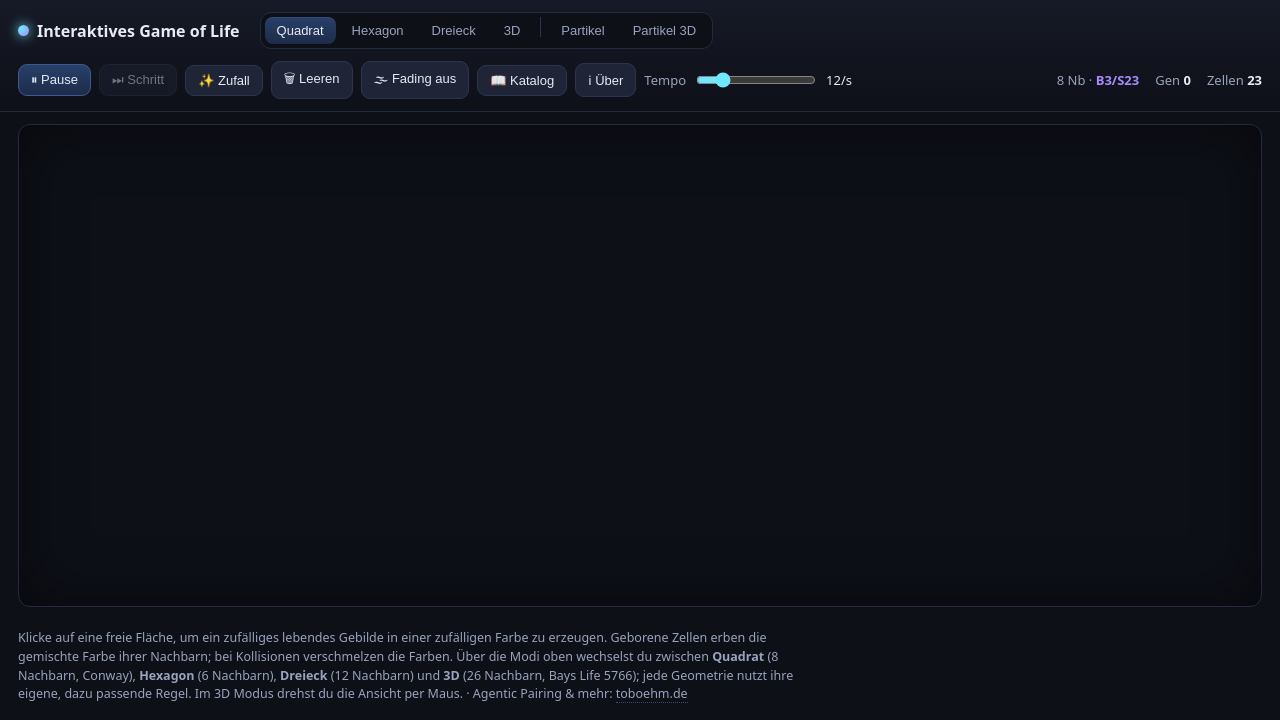
Test: App UI › shows the active rule and updates it when switching modes
Check: the text "B3/S23" is shown, box [1096,71,1139,89]
Click the button "Hexagon" at [378, 30], box [340,17,416,44]
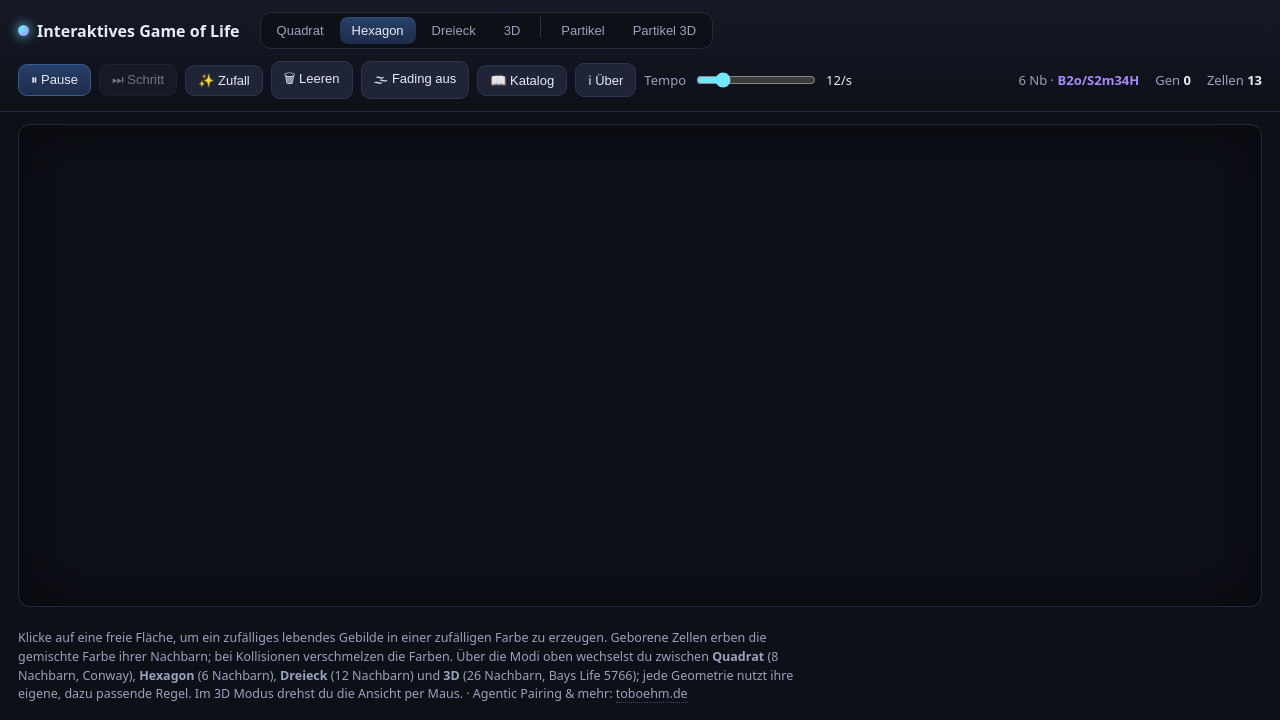
Check: the text "B2o/S2m34H" is shown, box [1058,71,1139,89]
Click the button "Dreieck" at [454, 30], box [420,17,488,44]
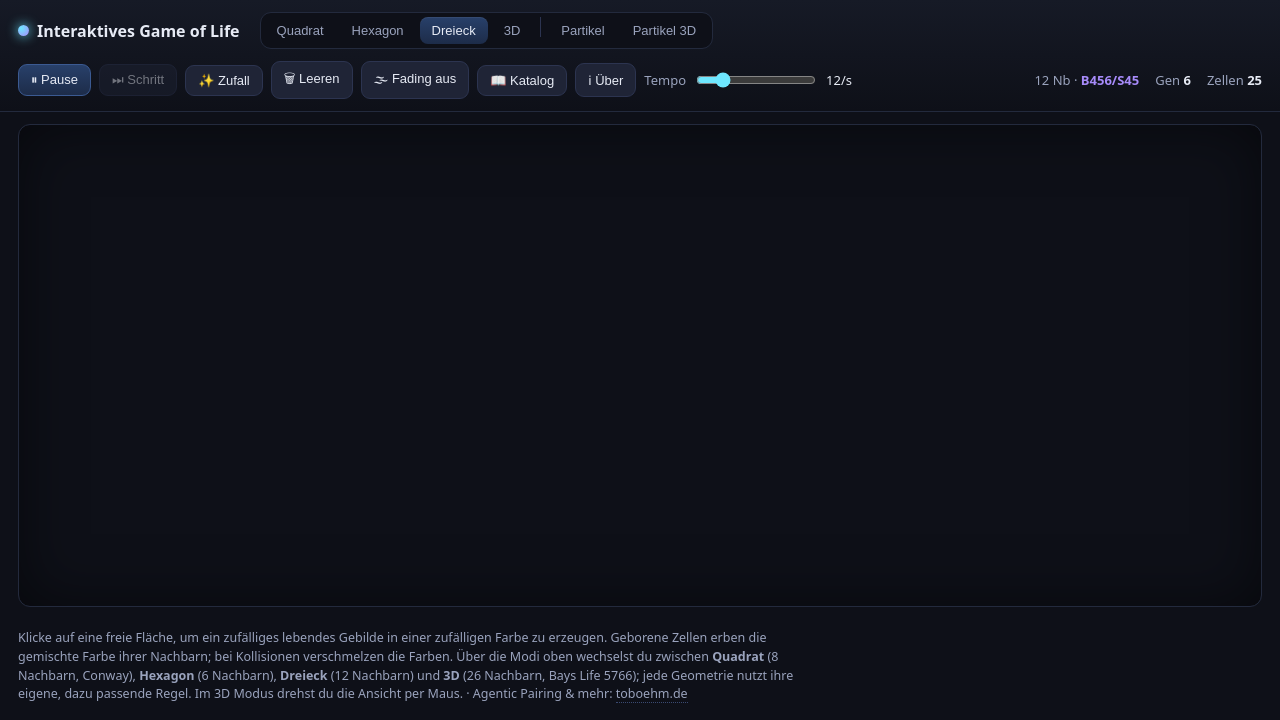
Check: the text "B456/S45" is shown, box [1081,71,1139,89]
